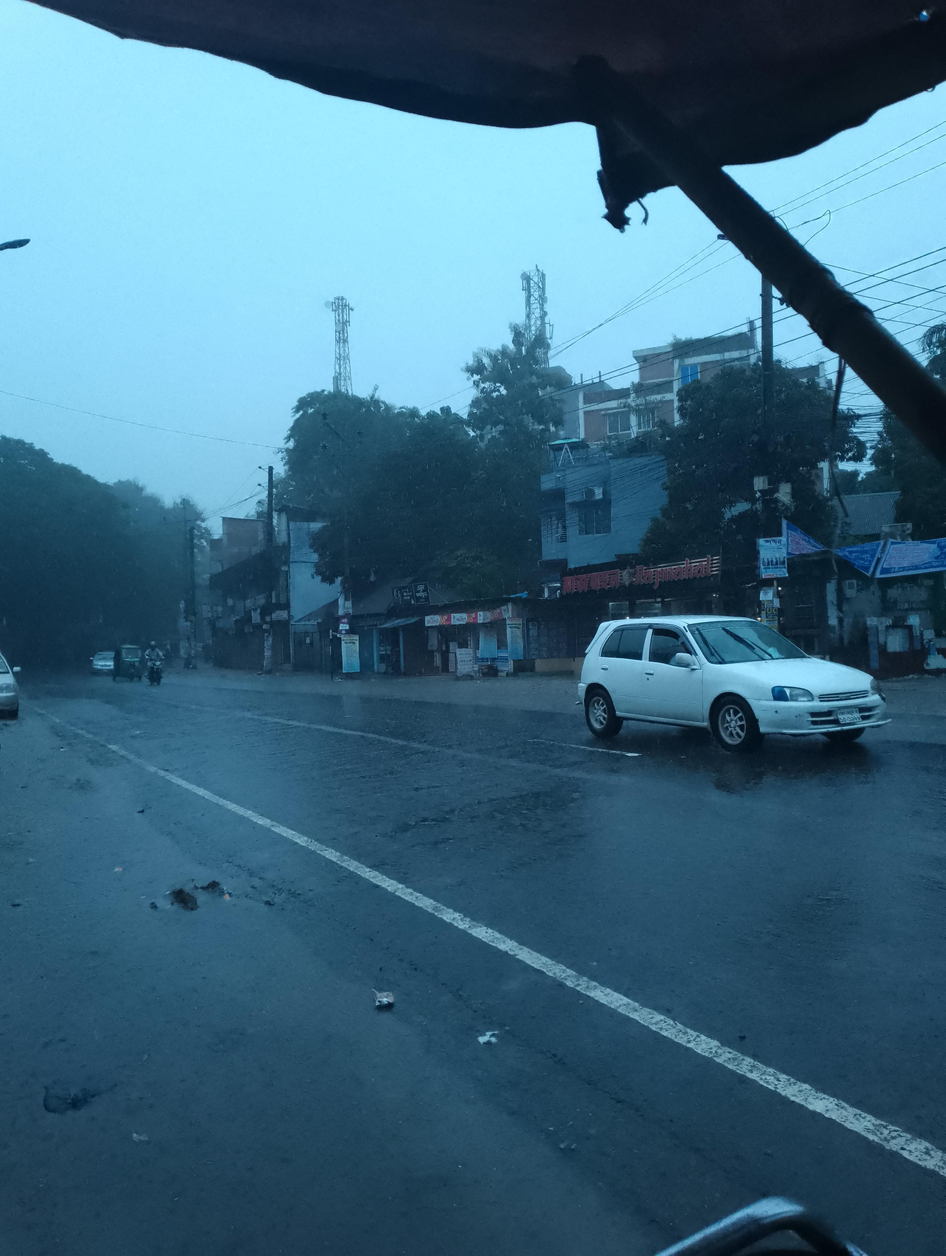Car: (558, 597, 914, 793)
